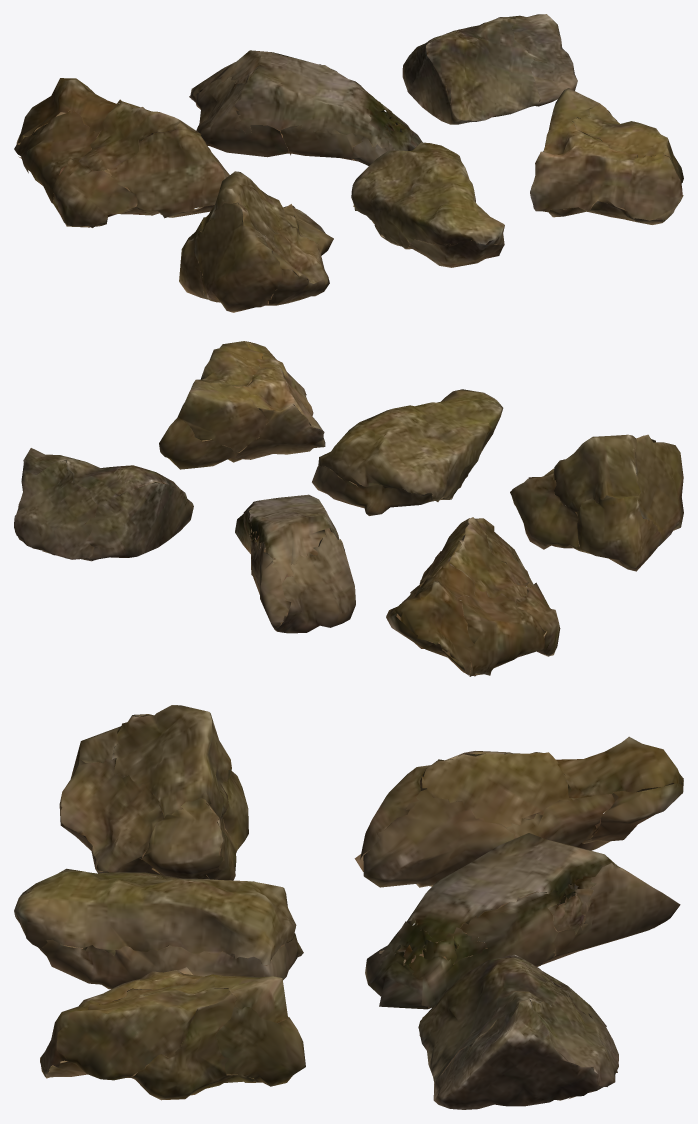
Rendered from rock_moss_set_01.glb.
The picture shows the model from 3 angles, top to bottom: view 1: azimuth 30°, elevation 25°; view 2: azimuth 150°, elevation 25°; view 3: azimuth 270°, elevation 25°; orthographic projection. The views are drawn at different scales.
Parts seen in each view (by area): view 1: rock_moss_set_01_rock01, rock_moss_set_01_rock02, rock_moss_set_01_rock06, rock_moss_set_01_rock04, rock_moss_set_01_rock03, rock_moss_set_01_rock05; view 2: rock_moss_set_01_rock04, rock_moss_set_01_rock01, rock_moss_set_01_rock05, rock_moss_set_01_rock03, rock_moss_set_01_rock06, rock_moss_set_01_rock02; view 3: rock_moss_set_01_rock01, rock_moss_set_01_rock02, rock_moss_set_01_rock05, rock_moss_set_01_rock04, rock_moss_set_01_rock06, rock_moss_set_01_rock03.
Boxes of the visible parts, box(x1,y1,x2,y2) form: rock_moss_set_01_rock01: box(14, 78, 229, 227); rock_moss_set_01_rock02: box(189, 50, 422, 165); rock_moss_set_01_rock06: box(530, 88, 683, 224); rock_moss_set_01_rock04: box(179, 171, 333, 312); rock_moss_set_01_rock03: box(402, 14, 577, 124); rock_moss_set_01_rock05: box(351, 142, 504, 267); rock_moss_set_01_rock04: box(510, 434, 683, 571); rock_moss_set_01_rock01: box(386, 517, 560, 676); rock_moss_set_01_rock05: box(312, 389, 503, 515); rock_moss_set_01_rock03: box(14, 448, 193, 561); rock_moss_set_01_rock06: box(159, 341, 325, 469); rock_moss_set_01_rock02: box(235, 494, 355, 633); rock_moss_set_01_rock01: box(354, 736, 683, 887); rock_moss_set_01_rock02: box(365, 833, 680, 1009); rock_moss_set_01_rock05: box(14, 868, 303, 989); rock_moss_set_01_rock04: box(59, 705, 248, 880); rock_moss_set_01_rock06: box(40, 967, 305, 1100); rock_moss_set_01_rock03: box(418, 954, 618, 1109).
Size of the model in its own units: 7.99 by 1.77 by 6.94.
Materials: 1 (1 with a texture image).
